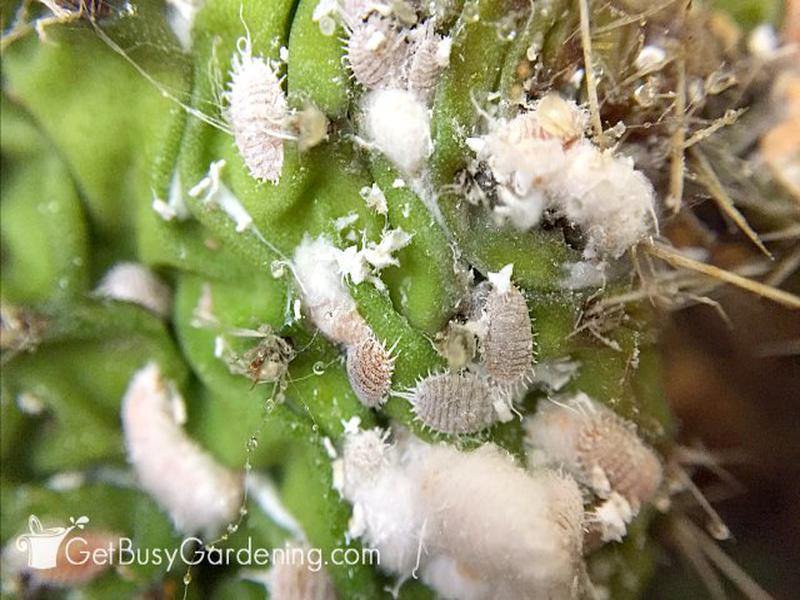Mealy_bug: (171, 39, 666, 274), (307, 291, 674, 511)
